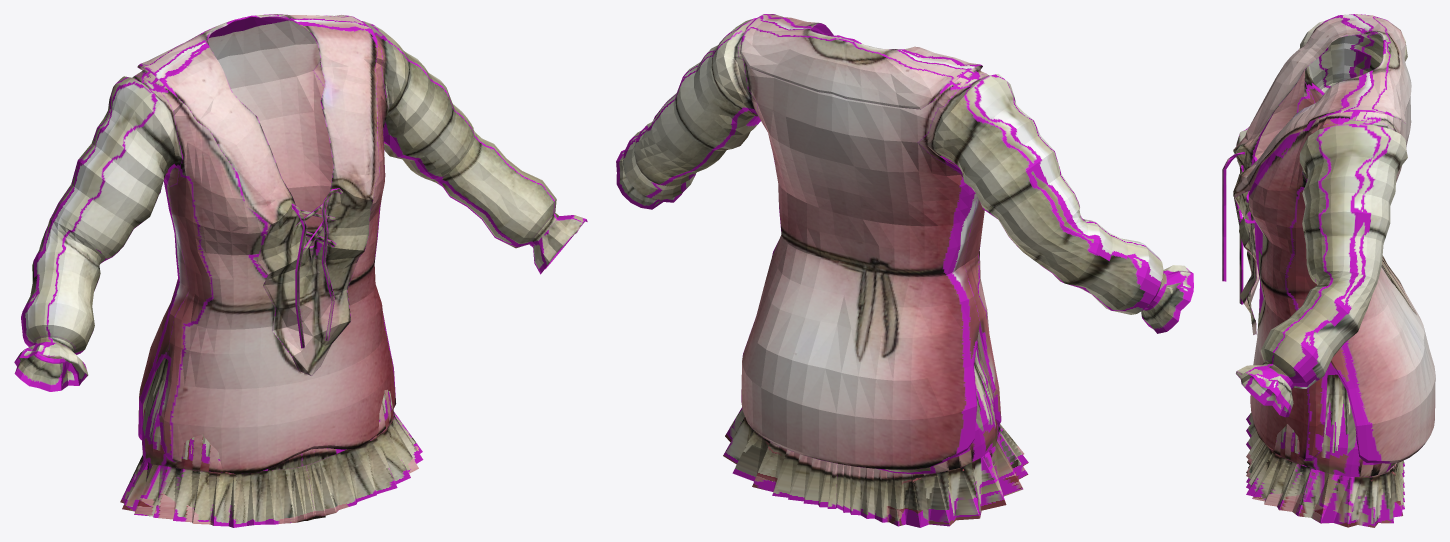
The picture shows the model from 3 angles, left to right: view 1: azimuth 30°, elevation 25°; view 2: azimuth 150°, elevation 25°; view 3: azimuth 270°, elevation 25°; orthographic projection. The views are drawn at different scales.
Size of the model in its own units: 1.19 by 0.9265 by 0.4092.
1 material, 1 textured.
